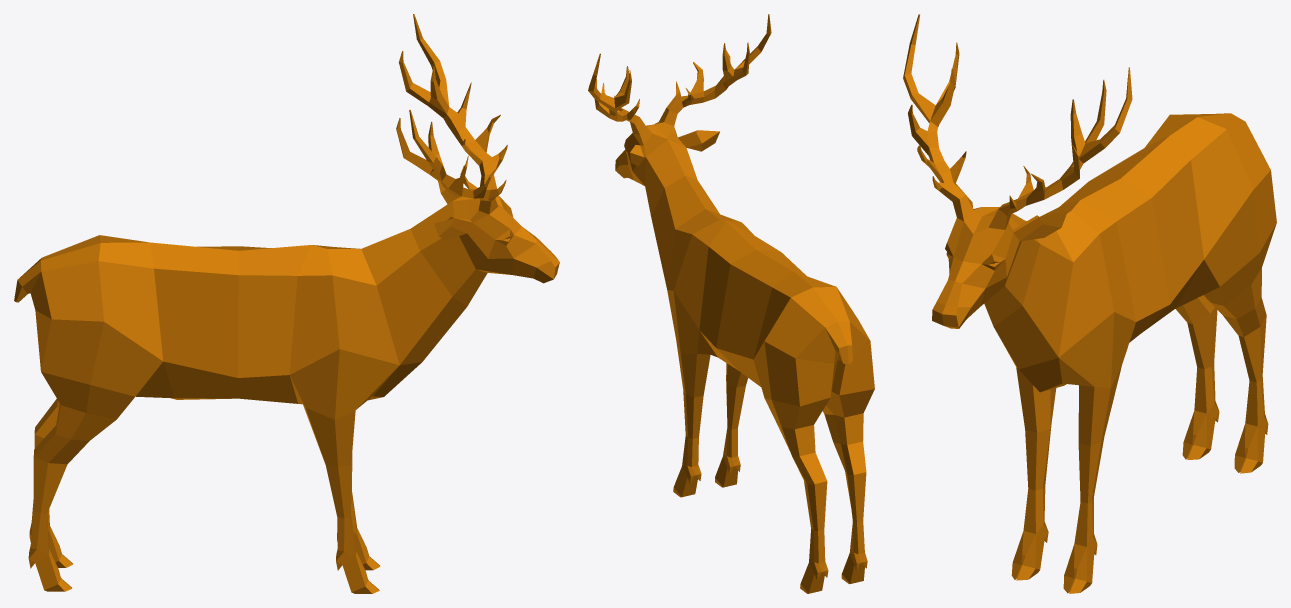
File: export_reindeer_animation.fbx
3 renders of one model, left to right at view 1: azimuth 30°, elevation 25°; view 2: azimuth 150°, elevation 25°; view 3: azimuth 270°, elevation 25°, orthographic. The views are drawn at different scales.
Parts seen in each view (by area): view 1: ORIGAMI_Cerf, Object092; view 2: ORIGAMI_Cerf, Object092; view 3: ORIGAMI_Cerf, Object092.
Boxes of the visible parts, x1=… form: ORIGAMI_Cerf: x1=14, y1=235, x2=421, y2=593; Object092: x1=361, y1=14, x2=559, y2=365; ORIGAMI_Cerf: x1=667, y1=209, x2=874, y2=593; Object092: x1=588, y1=14, x2=771, y2=289; ORIGAMI_Cerf: x1=1005, y1=113, x2=1276, y2=593; Object092: x1=903, y1=14, x2=1132, y2=369.
Bounding box in the file's own units: 373 × 448 × 272.
